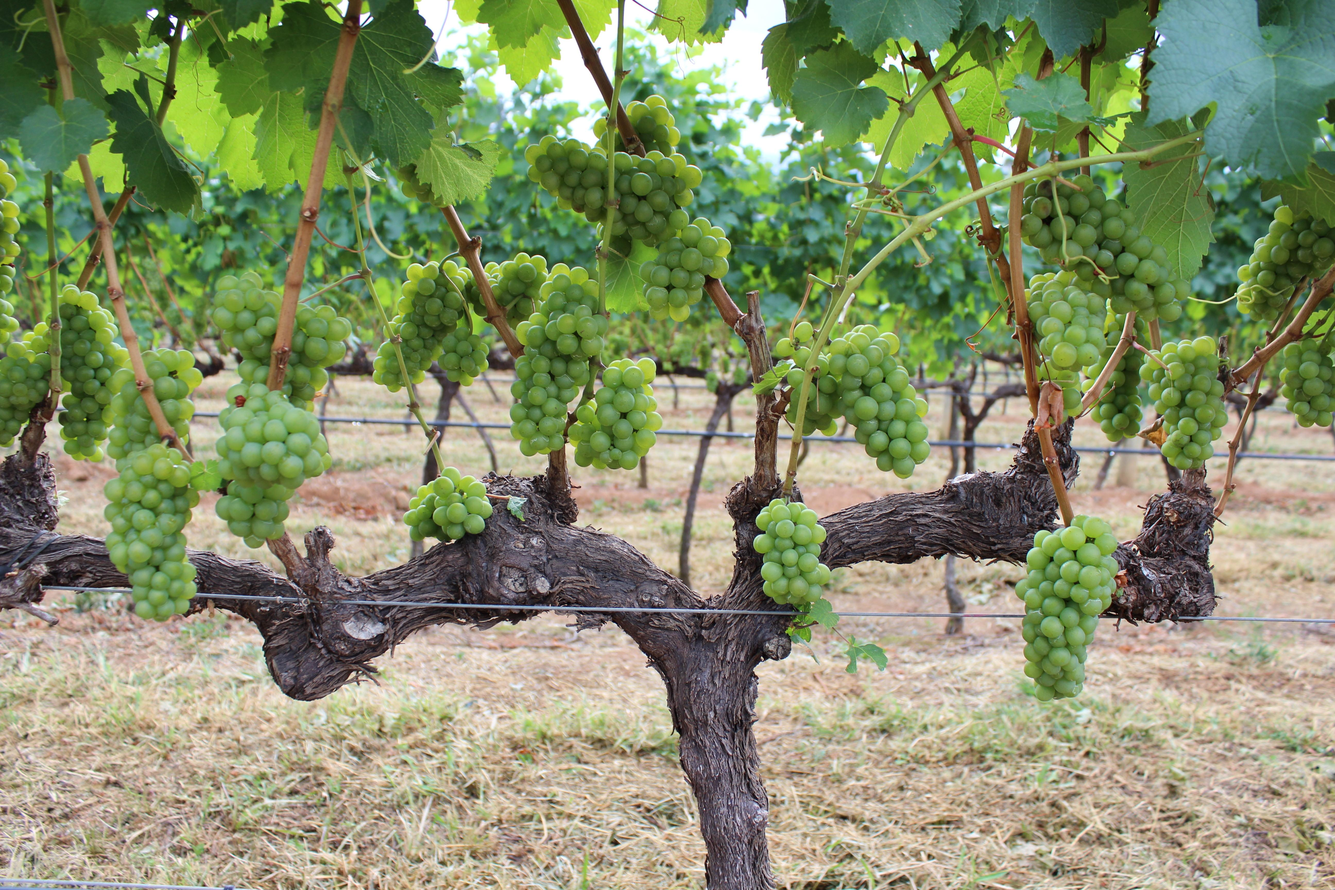leaf: (1148, 0, 1335, 178), (1123, 144, 1214, 280), (106, 90, 199, 212), (792, 42, 888, 146), (828, 0, 961, 56), (18, 97, 108, 171), (416, 128, 500, 204), (1003, 73, 1093, 132), (1029, 0, 1119, 58), (1262, 161, 1335, 225), (217, 38, 271, 117), (477, 0, 565, 48), (0, 45, 45, 133), (761, 22, 799, 104), (653, 0, 722, 45), (1100, 3, 1153, 61), (959, 0, 1034, 33), (1124, 114, 1189, 150), (79, 0, 158, 25), (219, 0, 273, 30), (699, 0, 746, 34), (138, 87, 147, 96), (1321, 152, 1335, 155), (141, 81, 144, 82), (1253, 13, 1254, 14)
